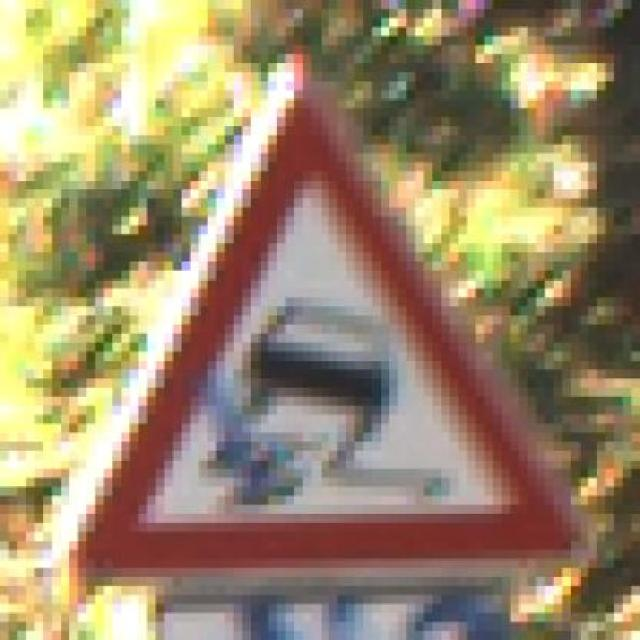Slippery Road Ahead: (60, 44, 597, 596)
